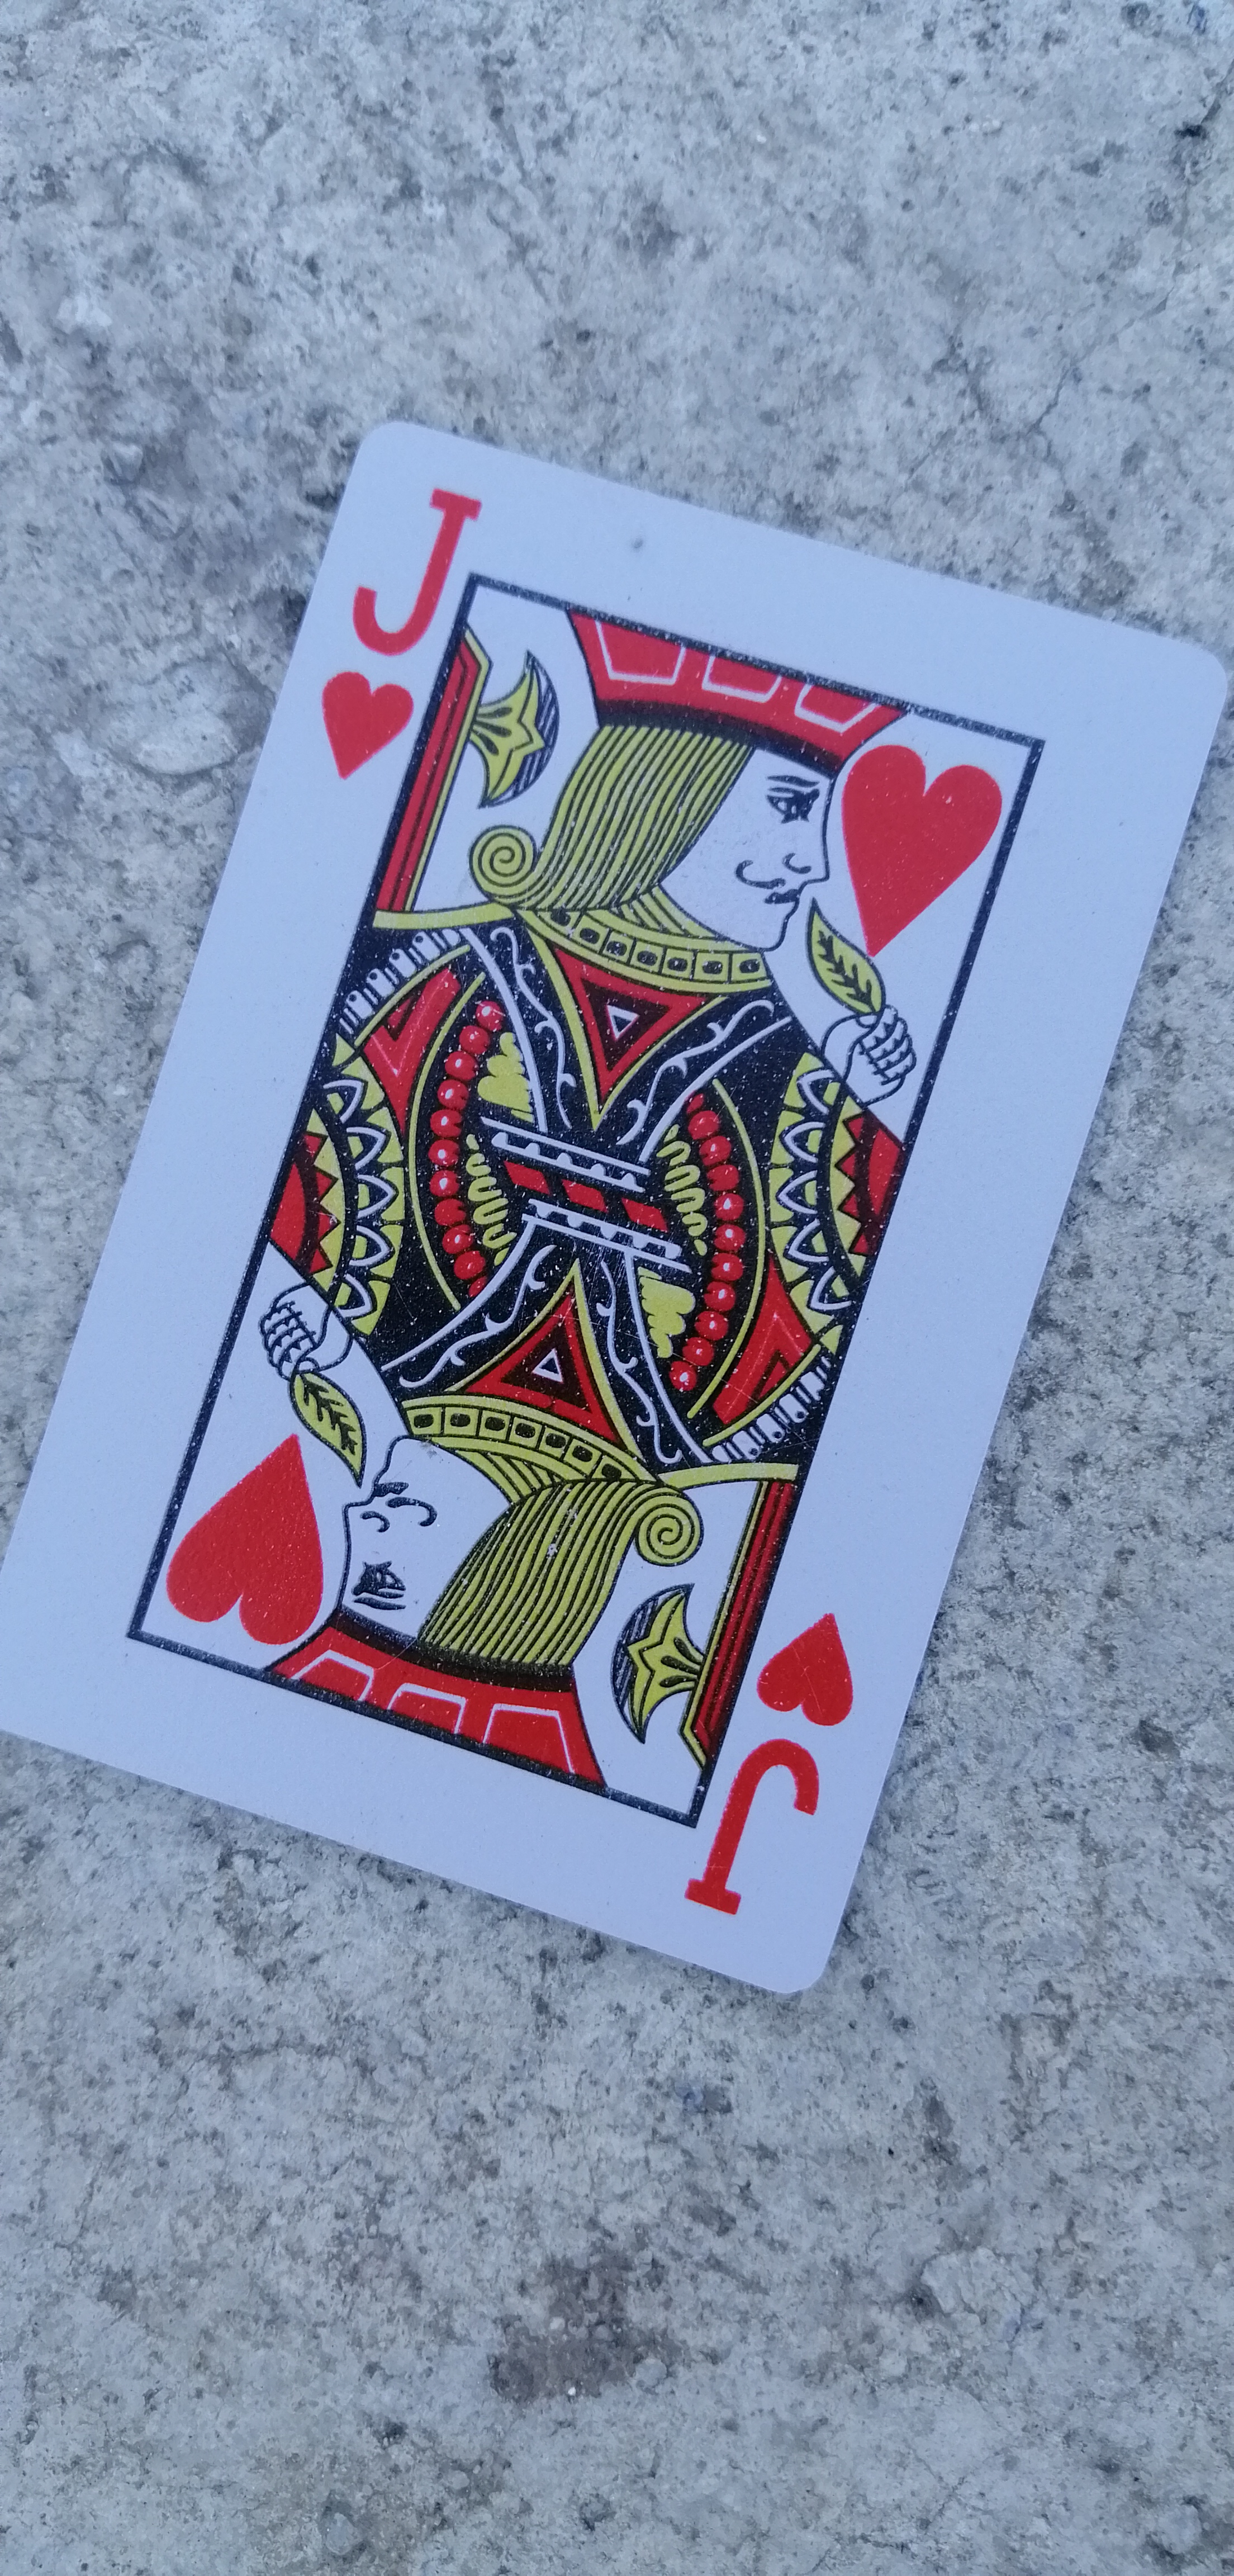jack: (35, 412, 1234, 2026)
